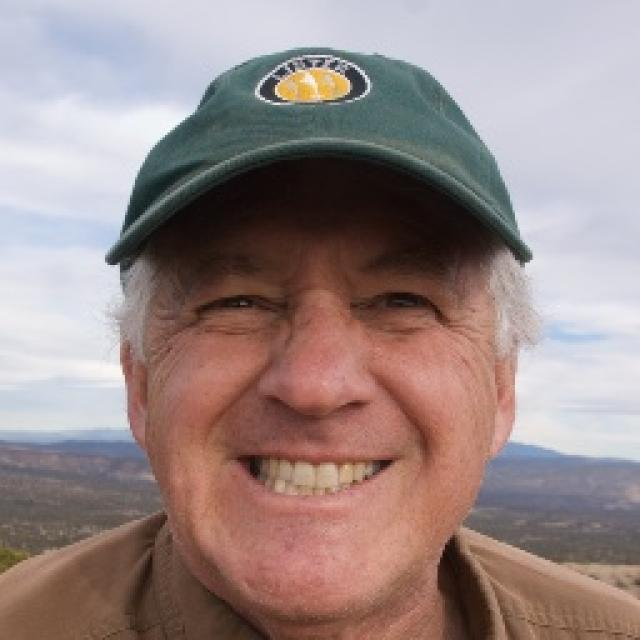earlobe: (493, 402, 517, 458), (128, 405, 151, 457)
eye: (200, 282, 272, 323), (358, 286, 444, 316)
nose: (262, 392, 371, 446)
wholeear: (117, 313, 151, 457), (493, 306, 522, 458)
